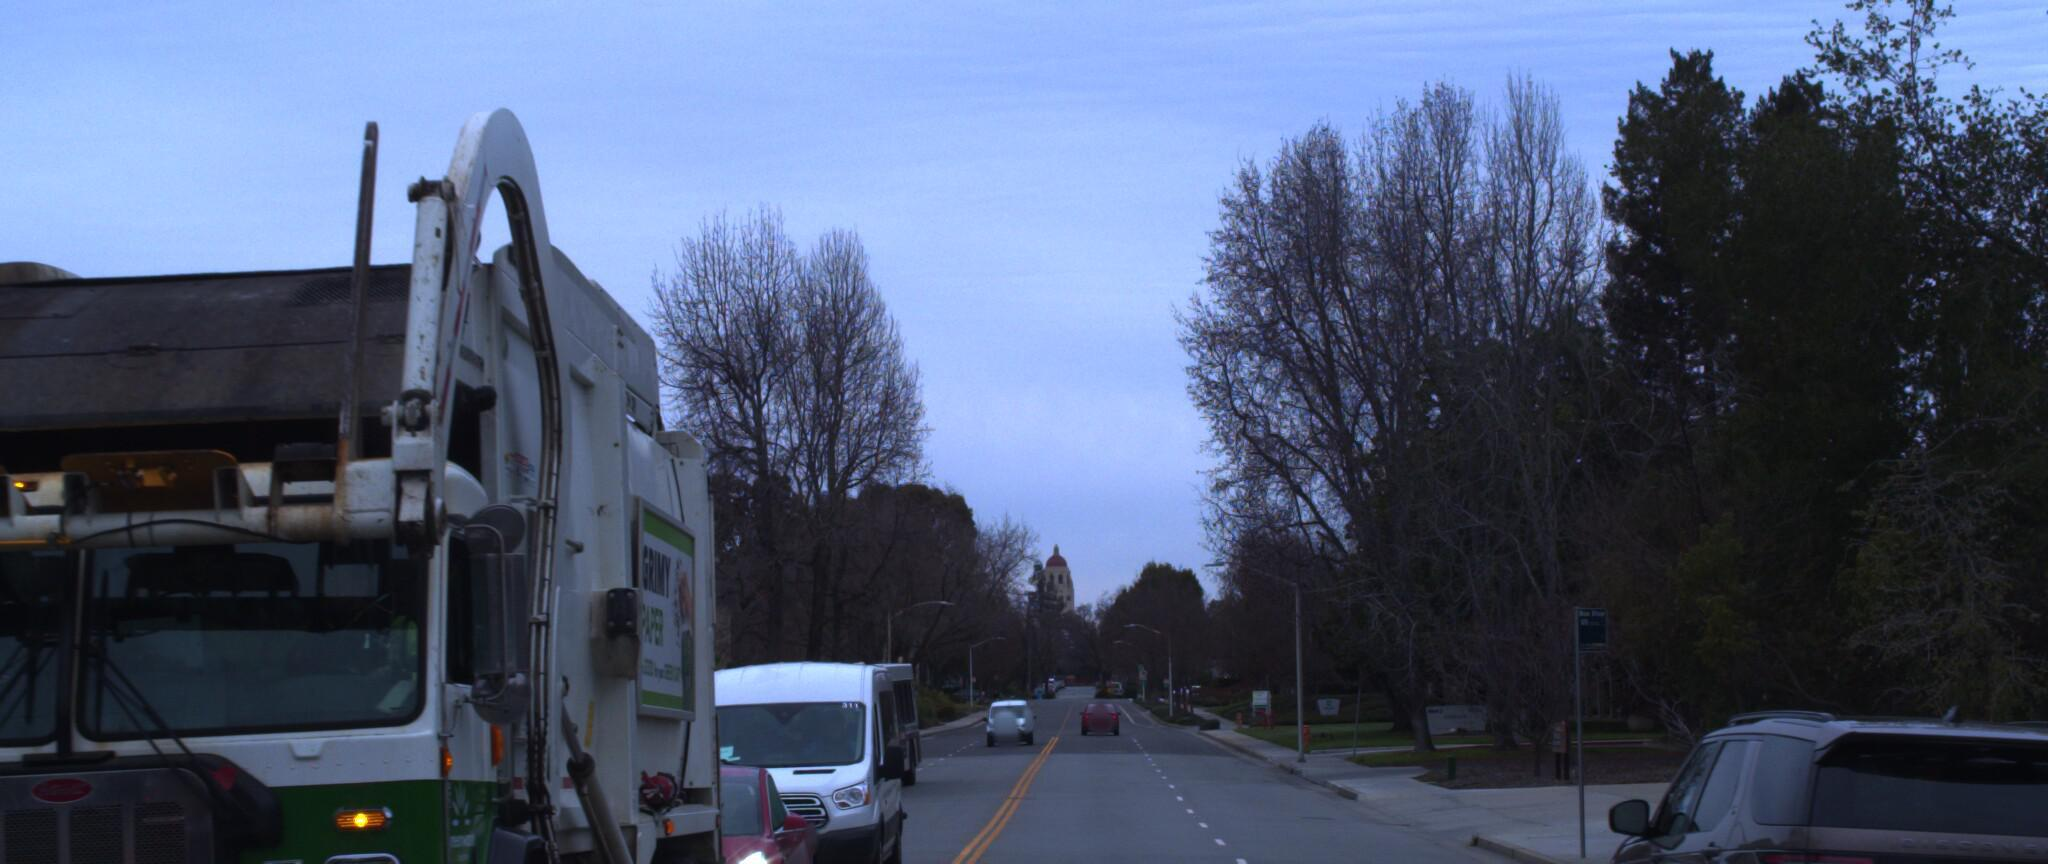car: (1550, 703, 2048, 864), (654, 656, 901, 864), (515, 760, 811, 864)
truck: (0, 4, 767, 864)
